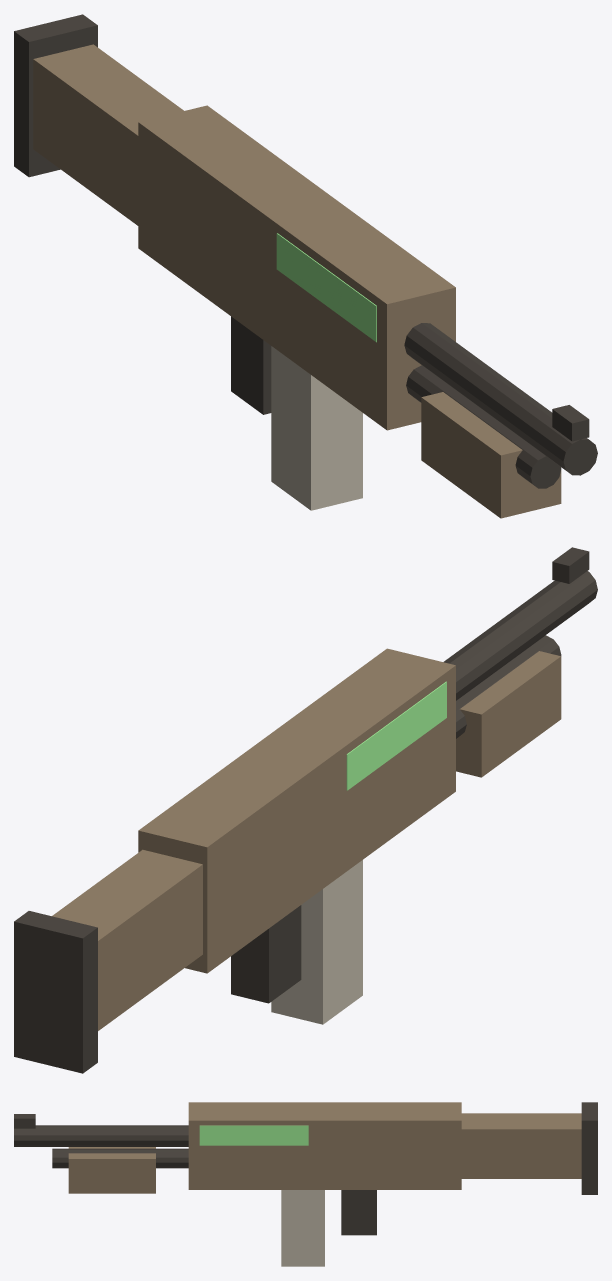
The model's file is weapon_P_Shotgun.glb.
The picture shows the model from 3 angles, top to bottom: view 1: azimuth 30°, elevation 25°; view 2: azimuth 150°, elevation 25°; view 3: azimuth 270°, elevation 25°; orthographic projection. The views are drawn at different scales.
Visible parts, largest first — view 1: Body, Mag; view 2: Body, Mag; view 3: Body, Mag.
Boxes of the visible parts, x1,y1,x2,y2 form: Body: (14, 14, 597, 518); Mag: (271, 346, 362, 510); Body: (14, 547, 597, 1073); Mag: (271, 860, 362, 1024); Body: (14, 1102, 597, 1235); Mag: (281, 1190, 324, 1266).
Size of the model in its own units: 0.082 by 0.3 by 1.07.
